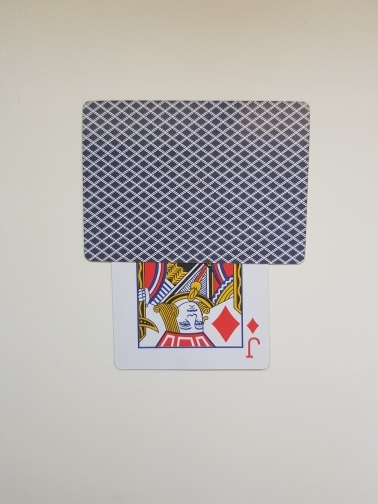jack: (111, 125, 272, 372)
